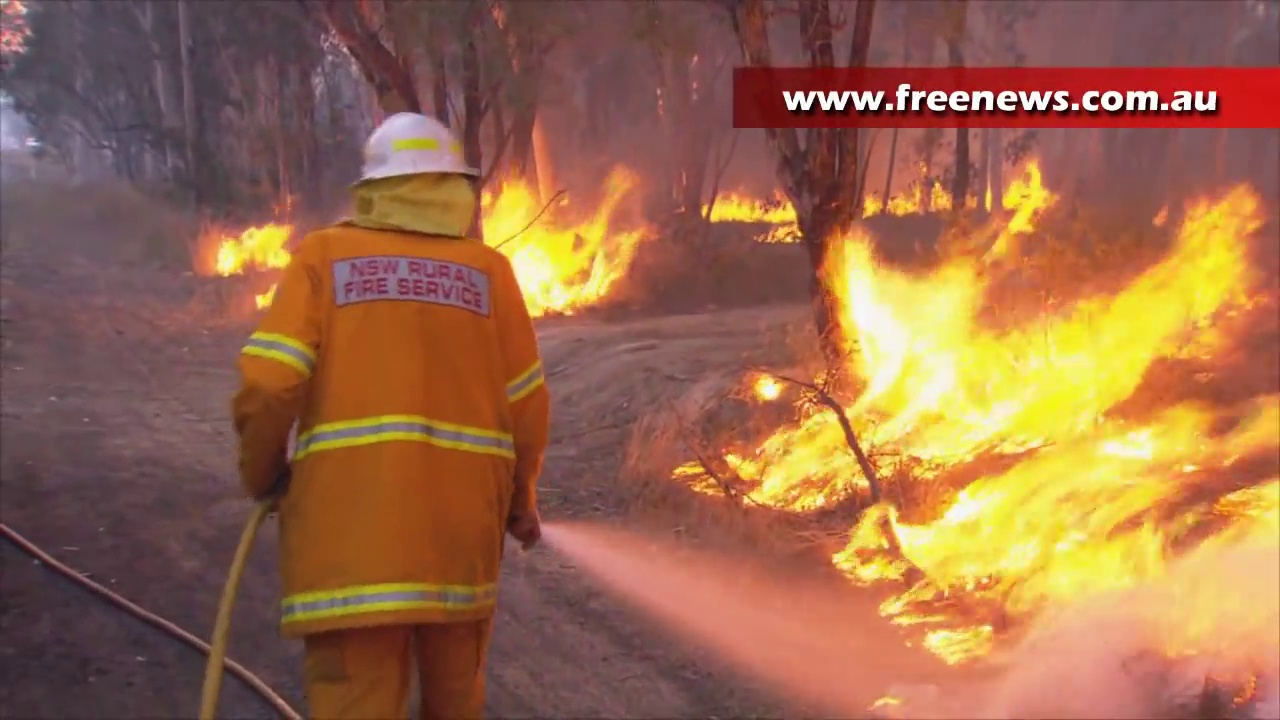fire: (714, 218, 1280, 659), (525, 174, 651, 316), (216, 222, 291, 278), (709, 195, 792, 225), (865, 185, 950, 214), (485, 186, 525, 242), (1009, 167, 1054, 214)
